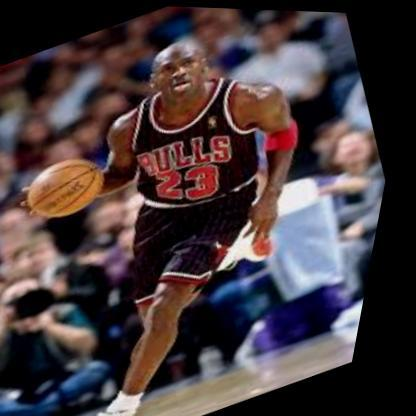basketball: (23, 146, 123, 228)
